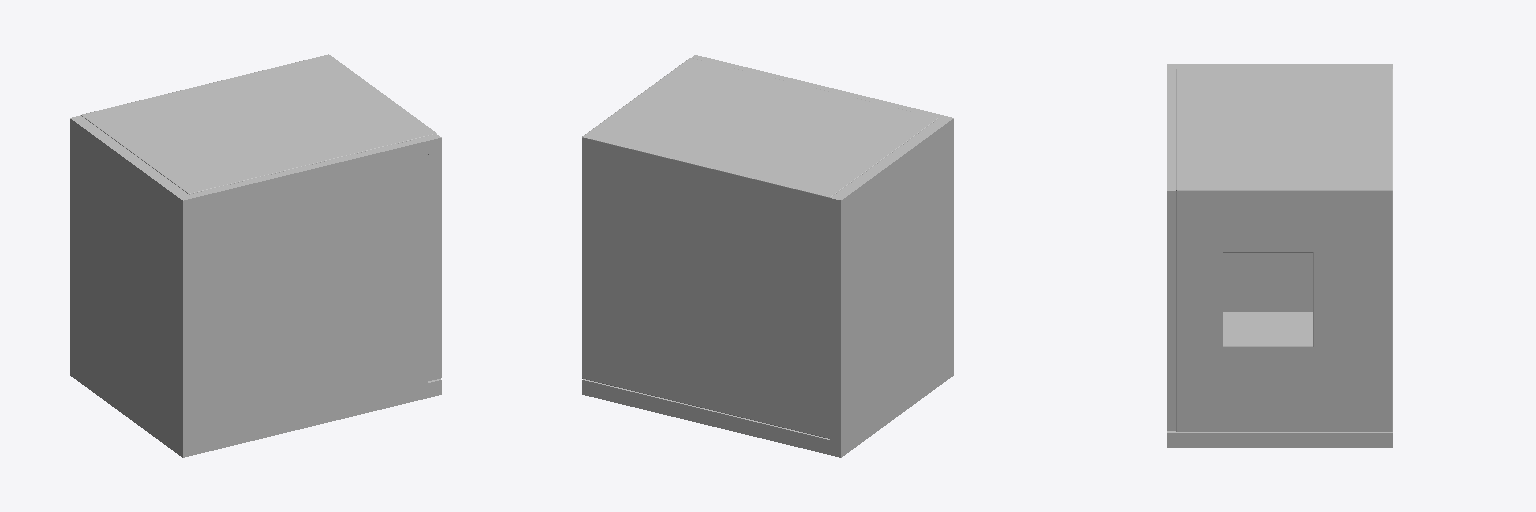
File: walls.obj
The picture shows the model from 3 angles: view 1: azimuth 30°, elevation 25°; view 2: azimuth 150°, elevation 25°; view 3: azimuth 270°, elevation 25°; orthographic projection.
Visible parts, largest first — view 1: corner; view 2: corner; view 3: corner.
Part boxes in pixels (left/top/right/bottom): corner: left=70, top=54, right=441, bottom=457; corner: left=582, top=55, right=953, bottom=457; corner: left=1167, top=64, right=1392, bottom=447.
Size of the model in its own units: 1493 by 1418 by 1127.